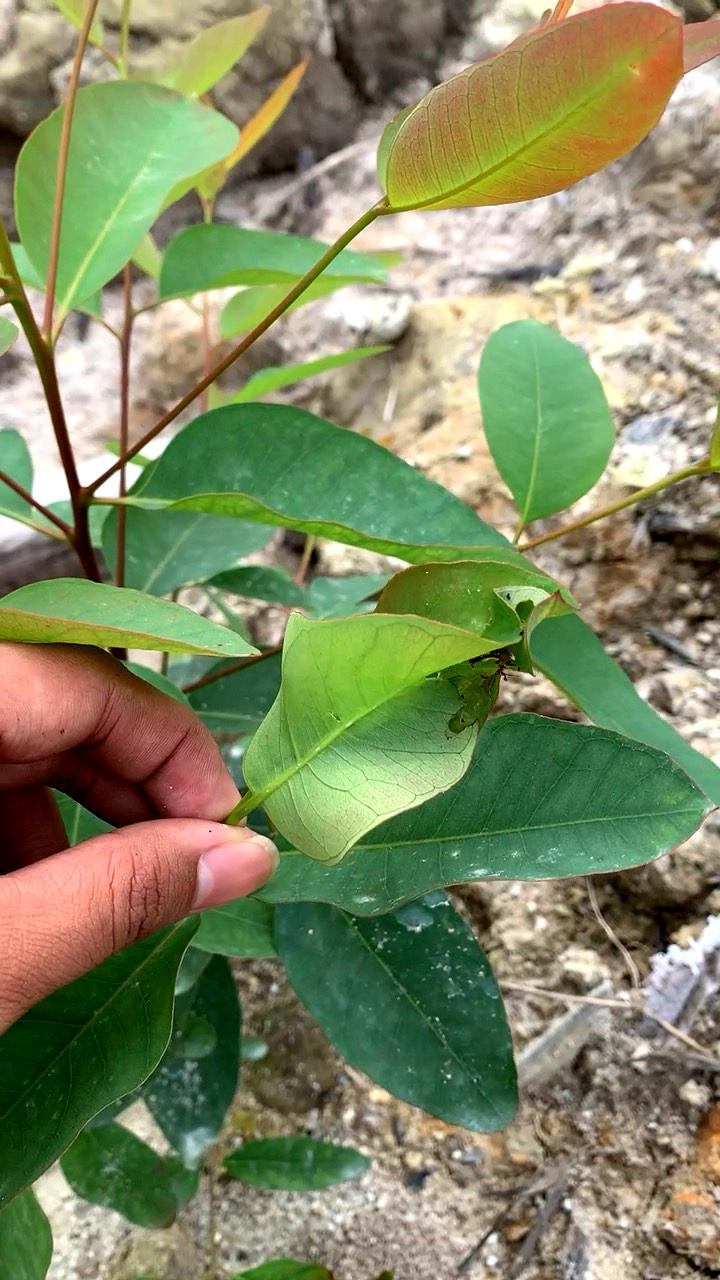Leaf Roller - Leaf: (199, 538, 583, 914)
